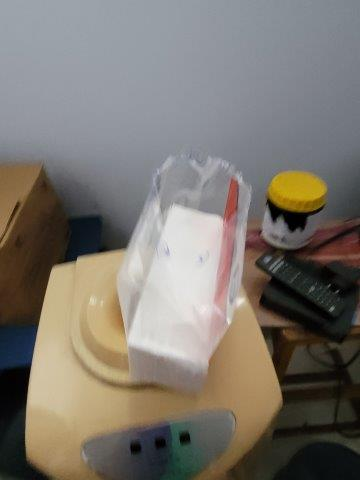plastik: (117, 156, 248, 343)
